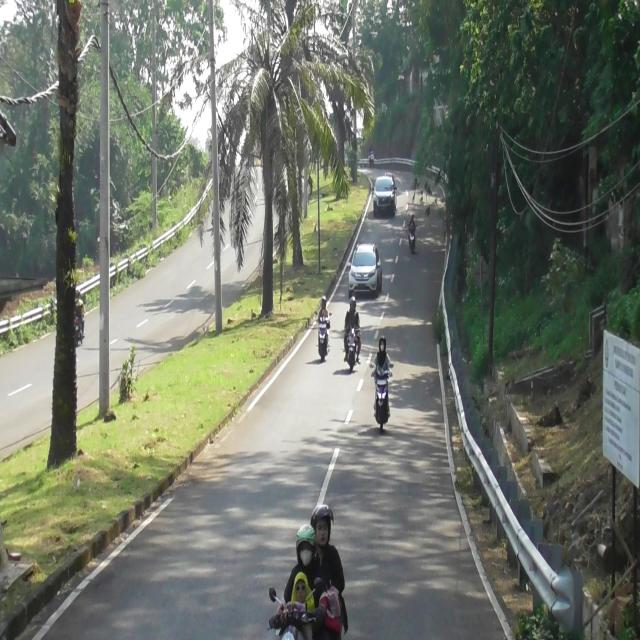motorcycle: (271, 578, 322, 640), (372, 364, 392, 434), (317, 315, 330, 363), (346, 325, 358, 371), (409, 229, 415, 253), (369, 152, 374, 167)
person: (308, 504, 348, 632), (280, 521, 327, 620), (344, 294, 361, 355), (372, 334, 394, 376), (290, 574, 314, 611), (318, 295, 330, 324), (408, 213, 417, 230), (369, 146, 374, 154), (410, 223, 414, 230)
rider_region: (274, 508, 348, 640), (370, 334, 392, 433), (344, 296, 360, 372), (317, 295, 329, 363), (408, 212, 418, 256), (368, 142, 375, 168)
